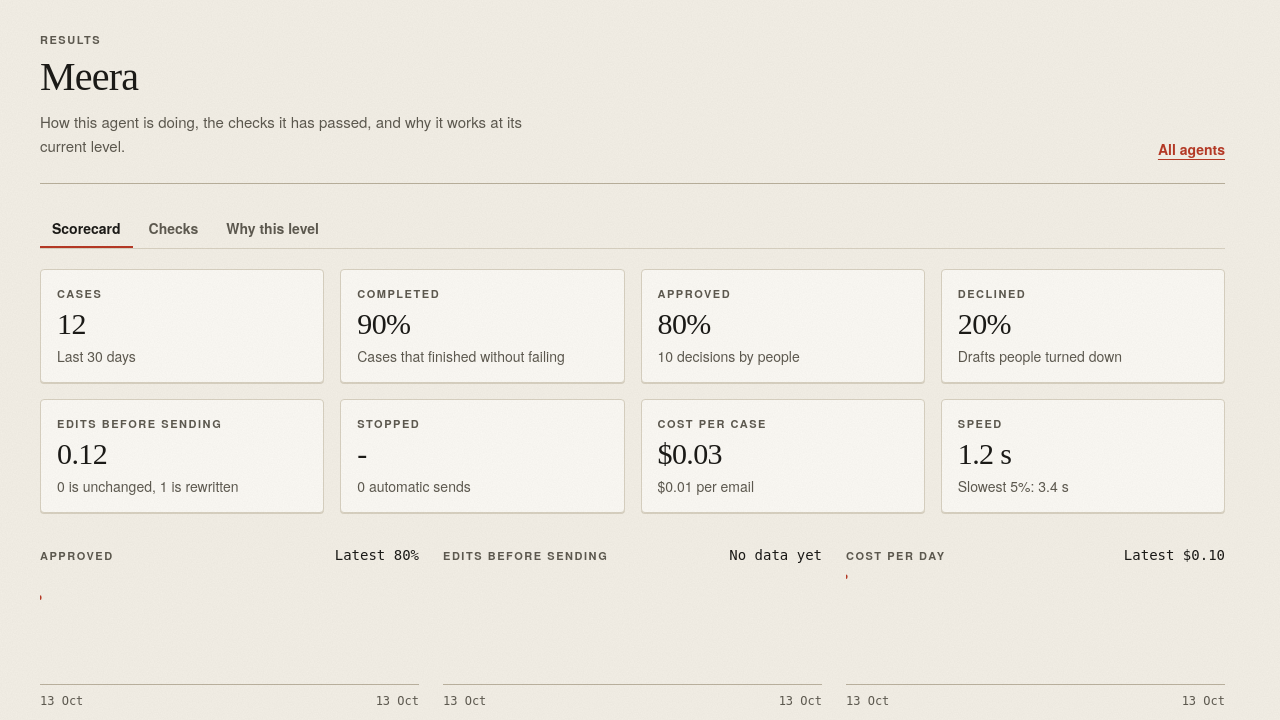
Scenario: metrics pages › shows check history and the reasons behind the level
This screenshot has width=1280, height=720.
Click the tab "Checks" at coordinates (173, 228), box top-left (136, 208), bottom-right (210, 248)
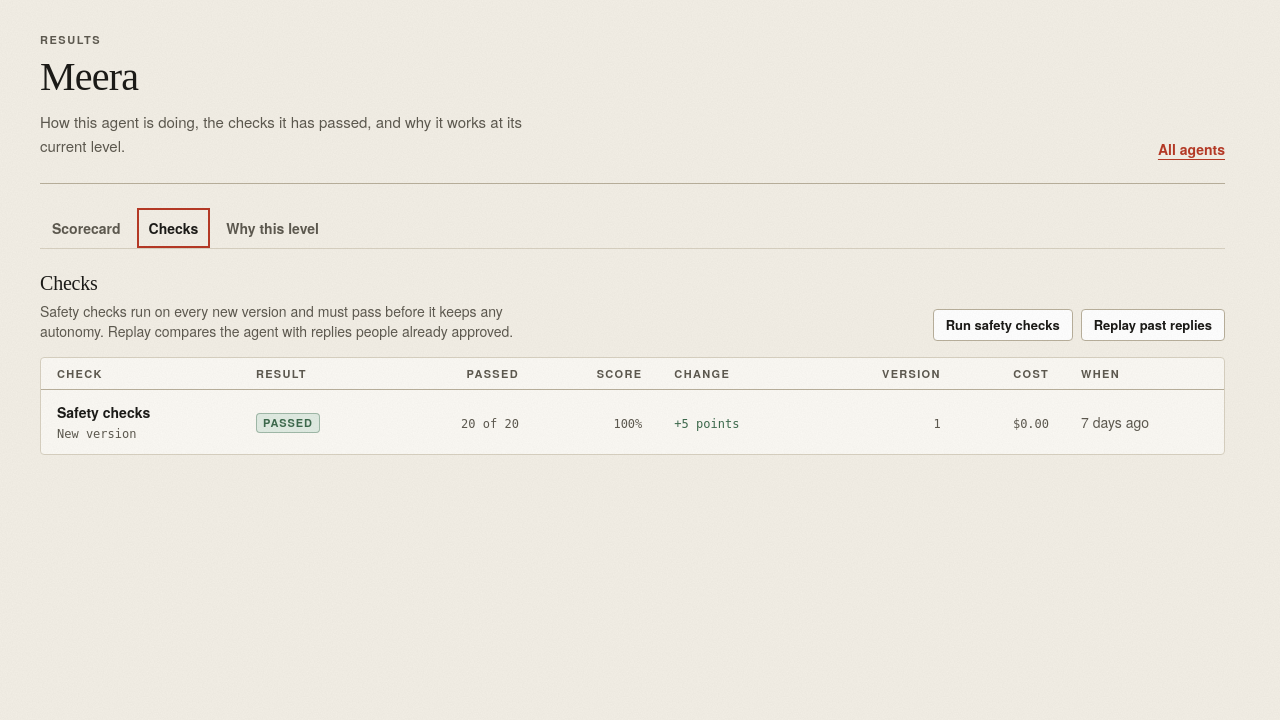
Expected: the text "Safety checks" is shown, top-left (57, 402), bottom-right (150, 422)
Expected: the text "+5 points" is shown, top-left (674, 418), bottom-right (739, 432)
Click the tab "Why this level" at coordinates (273, 228), box top-left (214, 208), bottom-right (331, 248)
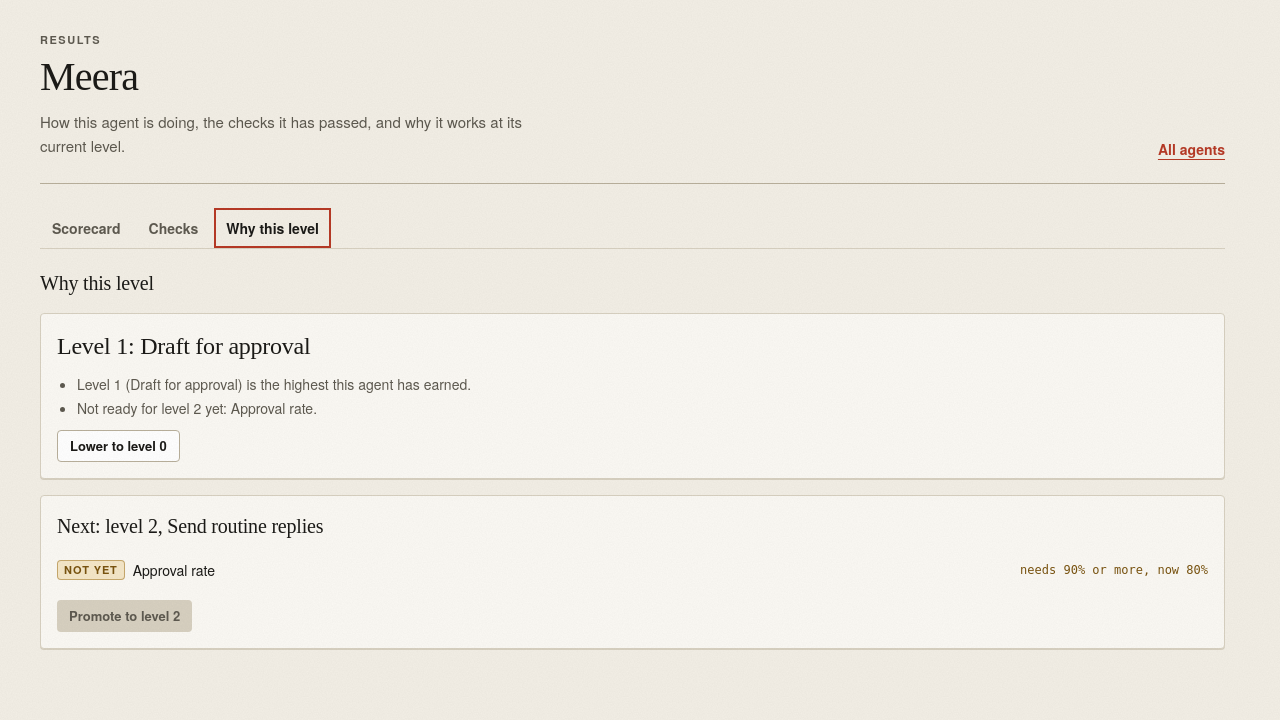
Expected: the list item "Not ready for level 2 yet: Approval rate." is shown, top-left (77, 398), bottom-right (317, 418)
Expected: the button "Promote to level 2" is disabled, top-left (57, 600), bottom-right (192, 632)
